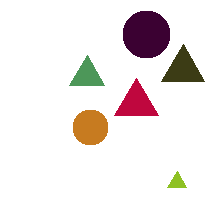circle: (123, 11, 169, 57), (73, 110, 107, 144)
triangle: (114, 78, 158, 115), (161, 44, 204, 81), (69, 55, 104, 85), (167, 171, 186, 187)
